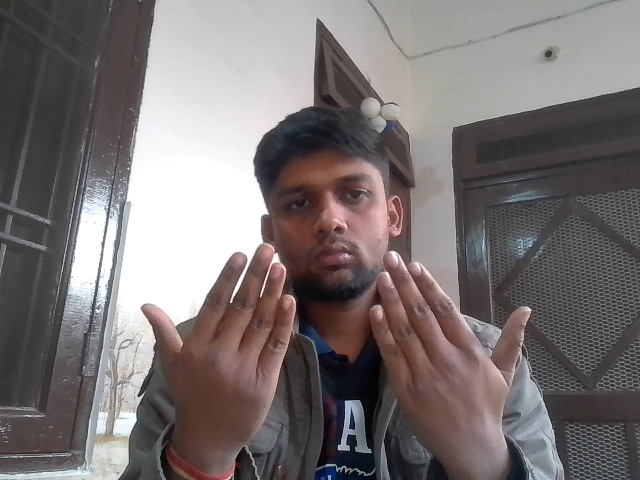ThankYou: (122, 236, 548, 452)
